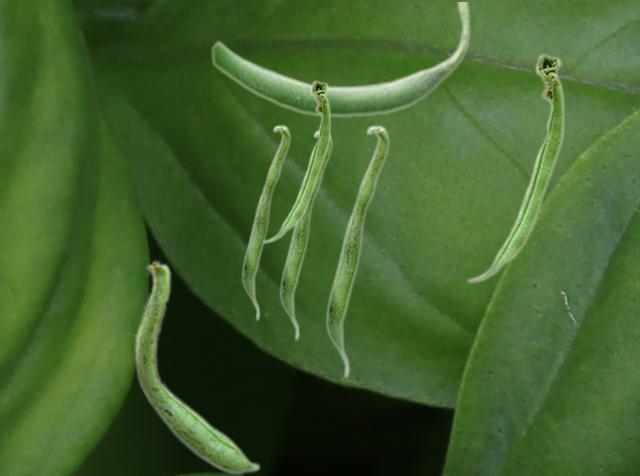french_bean: (210, 2, 470, 118), (134, 258, 260, 474), (466, 52, 564, 283), (325, 124, 389, 379), (279, 130, 332, 341), (266, 79, 330, 243), (241, 124, 290, 321)
